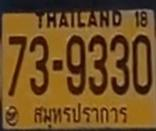0: (132, 34, 151, 93)
3: (88, 35, 108, 94), (109, 34, 128, 94), (29, 36, 48, 94)
7: (8, 35, 28, 98)
9: (66, 35, 86, 94)
SPK: (30, 98, 130, 128)
